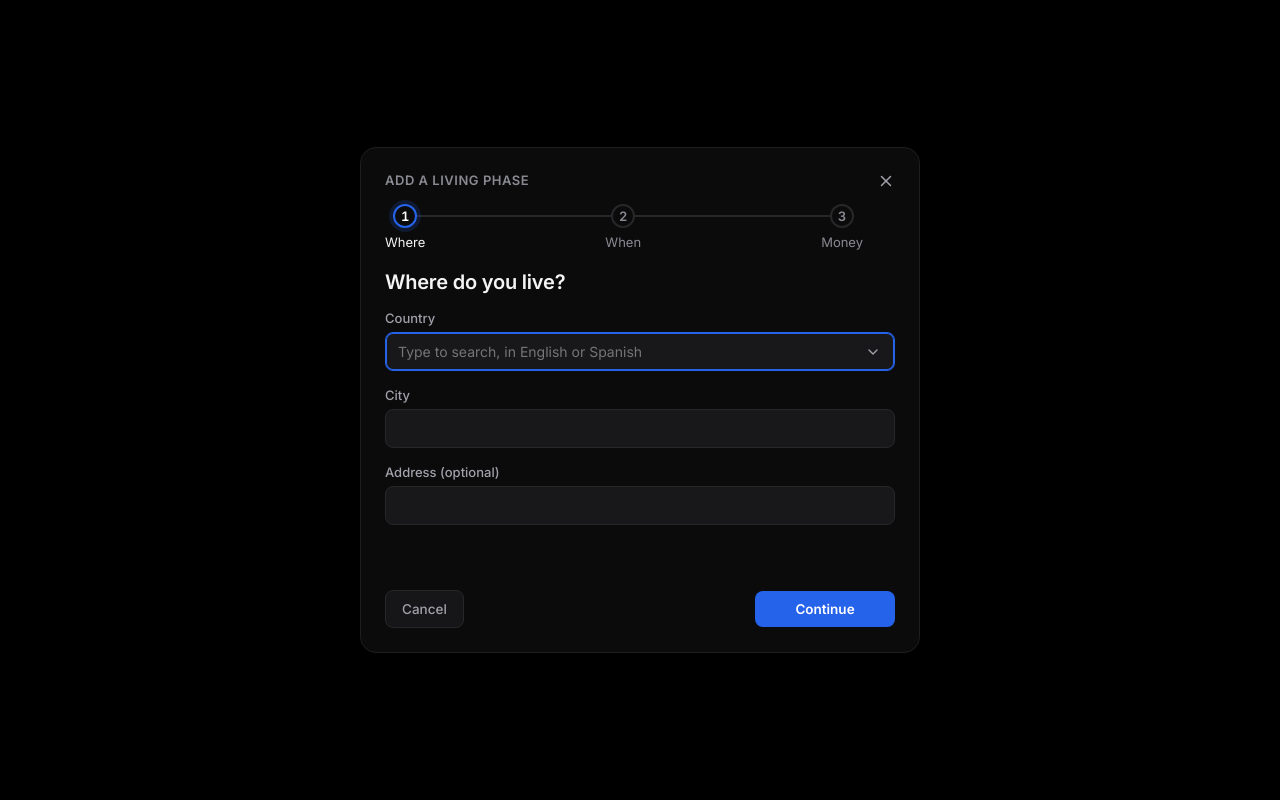
PhaseWizard › asks for what is missing before moving on
The width and height of the screenshot is (1280, 800).
Click the button "Continue" at (825, 609), box [755, 591, 895, 627]
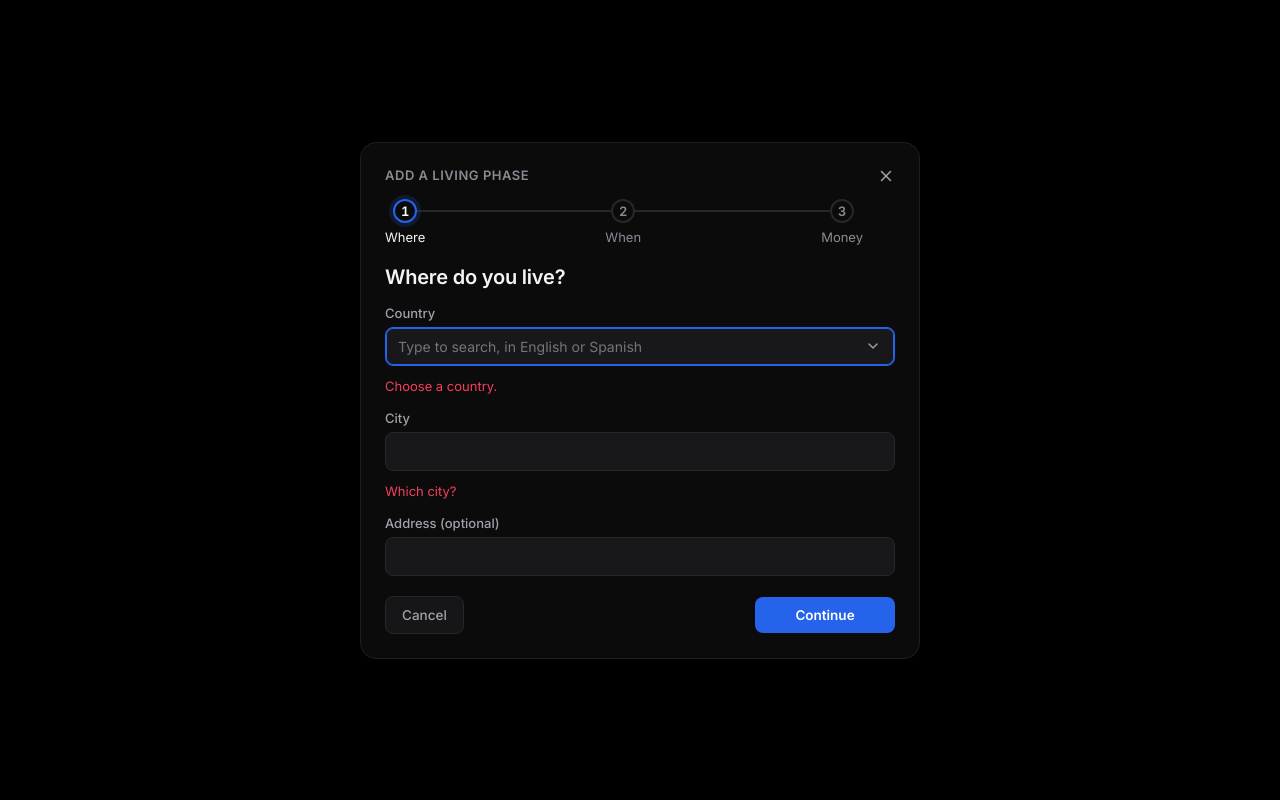
Expected: the heading reads "Where do you live?", [385, 264, 565, 288]
Now the text "Choose a country." is shown, box [385, 378, 497, 394]
Now the text "Which city?" is shown, box [385, 482, 456, 498]
